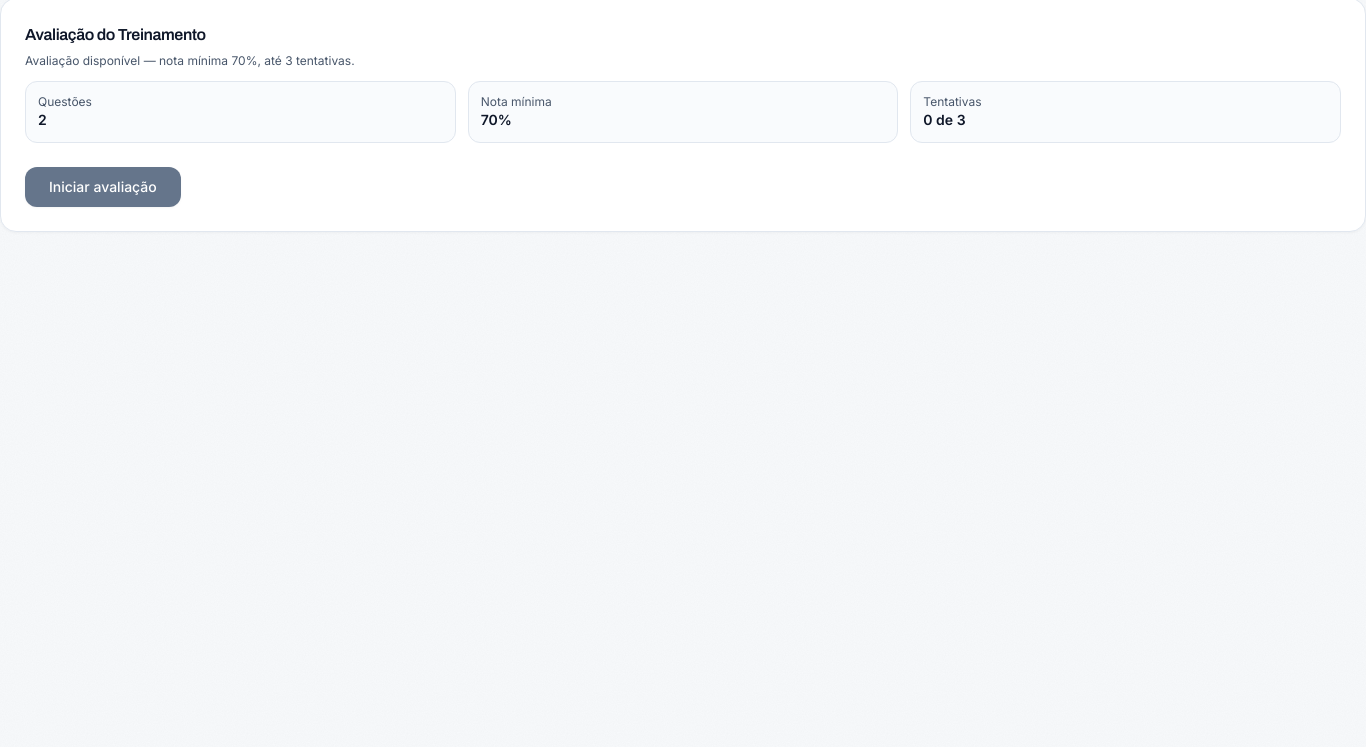
ETAPA 9.4 — QuizPlayer: Avaliação, Correção Server-Side e Gabarito › e) Usuário aprovado vê botão "Continuar" e não tem opção de tentar novamente
Later steps or results of the test are not shown.
Click the button "Iniciar avaliação".
click(103, 187)  # box [25, 167, 181, 207]
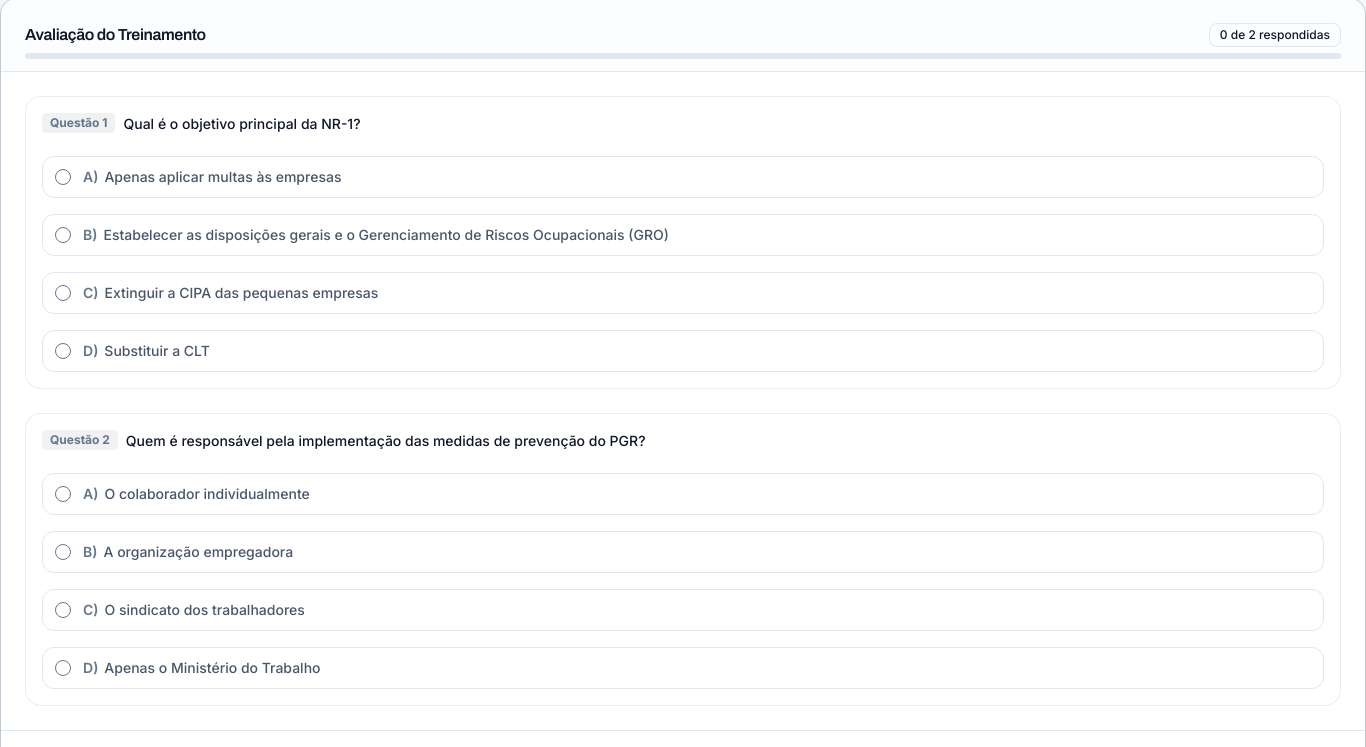
Check: the text "Qual é o objetivo principal da NR-1?" is shown, box [124, 113, 361, 136]
Click the text "Estabelecer as disposições gerais e o Gerenciamento de Riscos".
click(376, 234)  # box [83, 226, 669, 243]
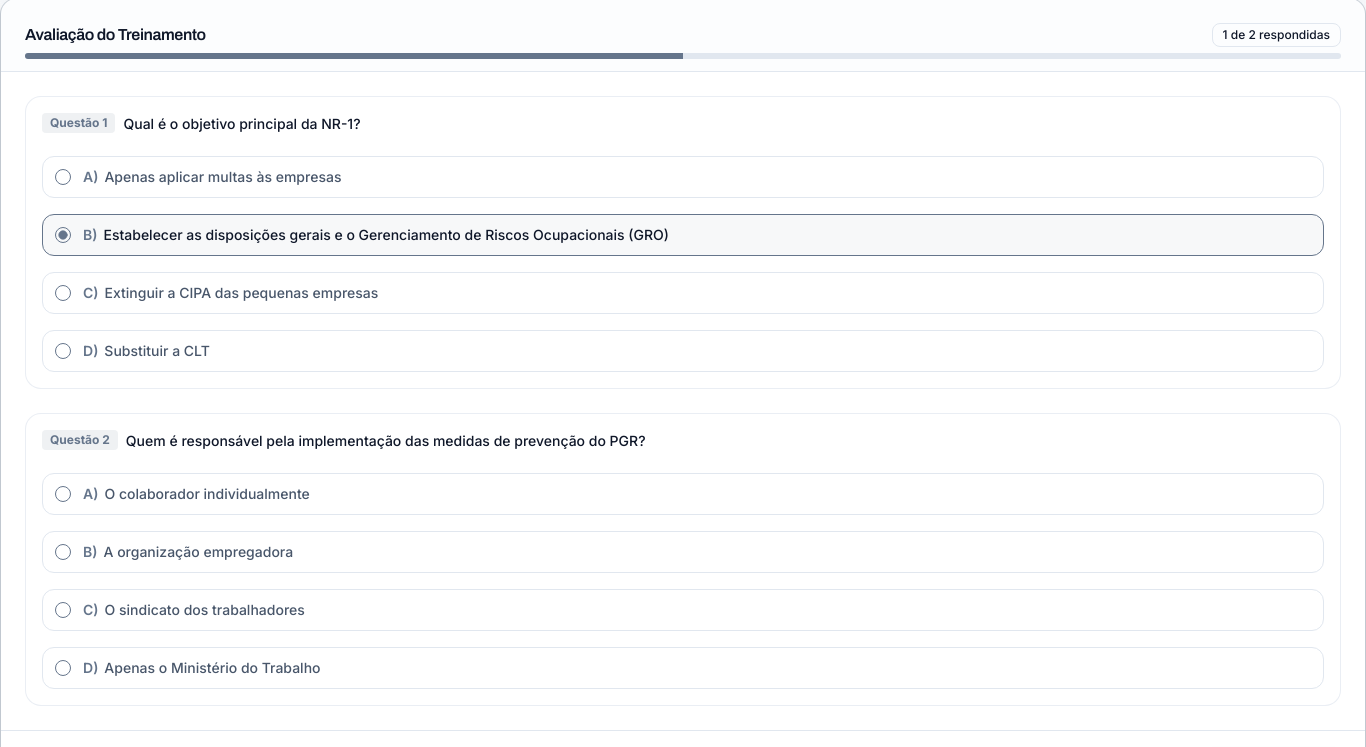
Click the text "B)A organização empregadora".
click(188, 551)  # box [83, 542, 293, 560]
(page scrolled)
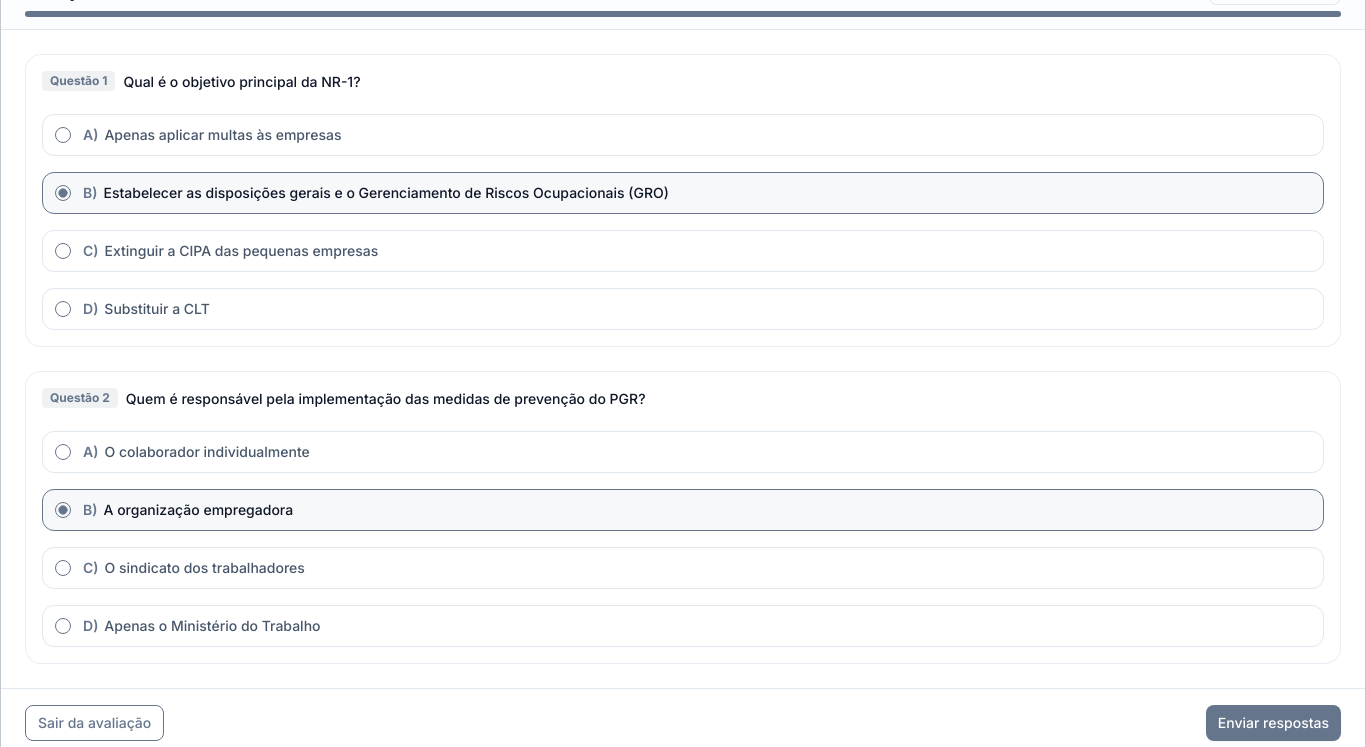
Click the button "Enviar respostas".
click(1273, 722)  # box [1206, 704, 1341, 740]
(page scrolled)
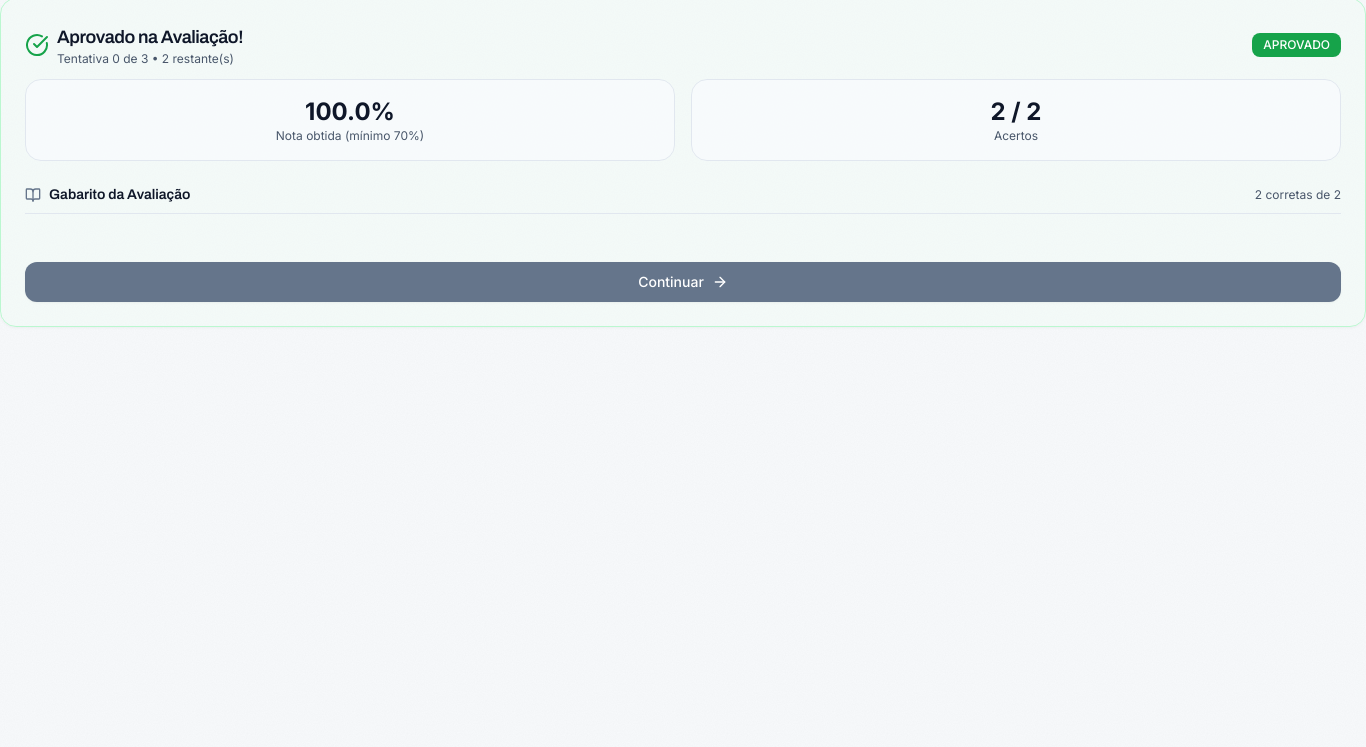
Check: the button "Continuar" is shown, box [25, 262, 1341, 302]
